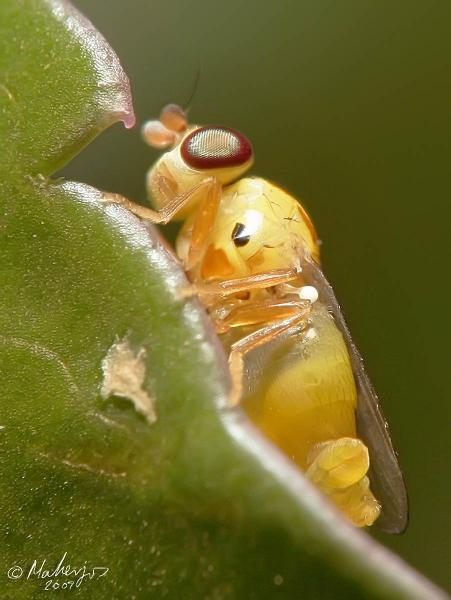Chloropidae: (118, 64, 408, 532)
